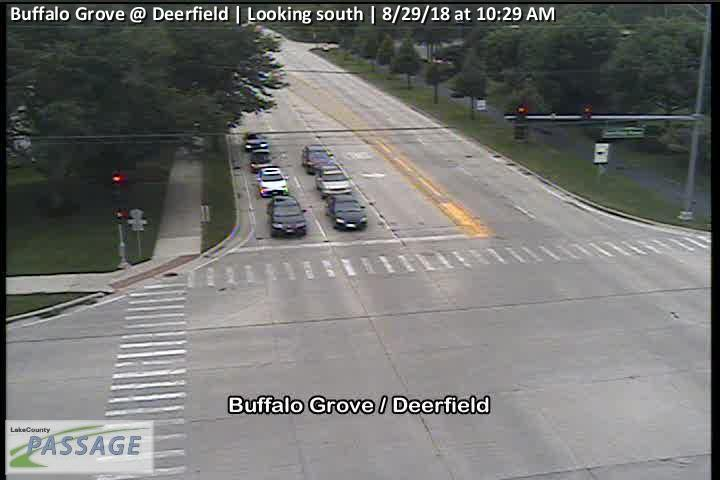Sedan: (325, 193, 367, 231), (269, 194, 306, 237), (316, 167, 352, 198), (303, 143, 336, 173), (257, 168, 289, 196), (249, 149, 274, 171), (244, 134, 268, 150)
